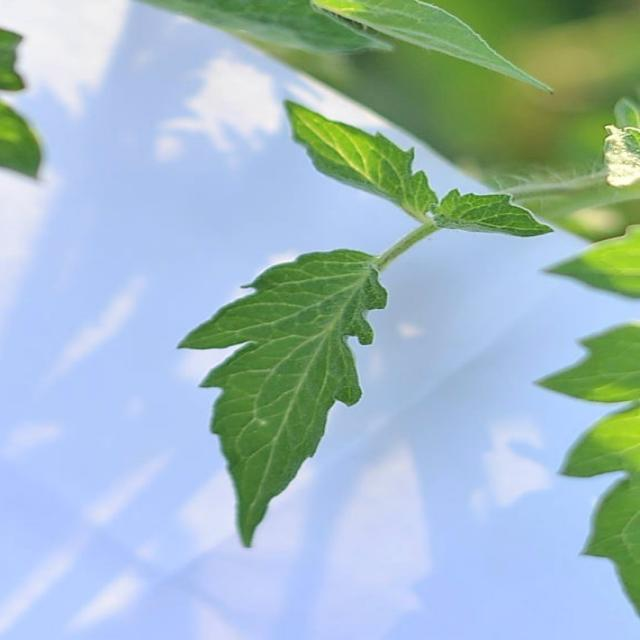healthy: (153, 244, 401, 553), (277, 97, 561, 242)
